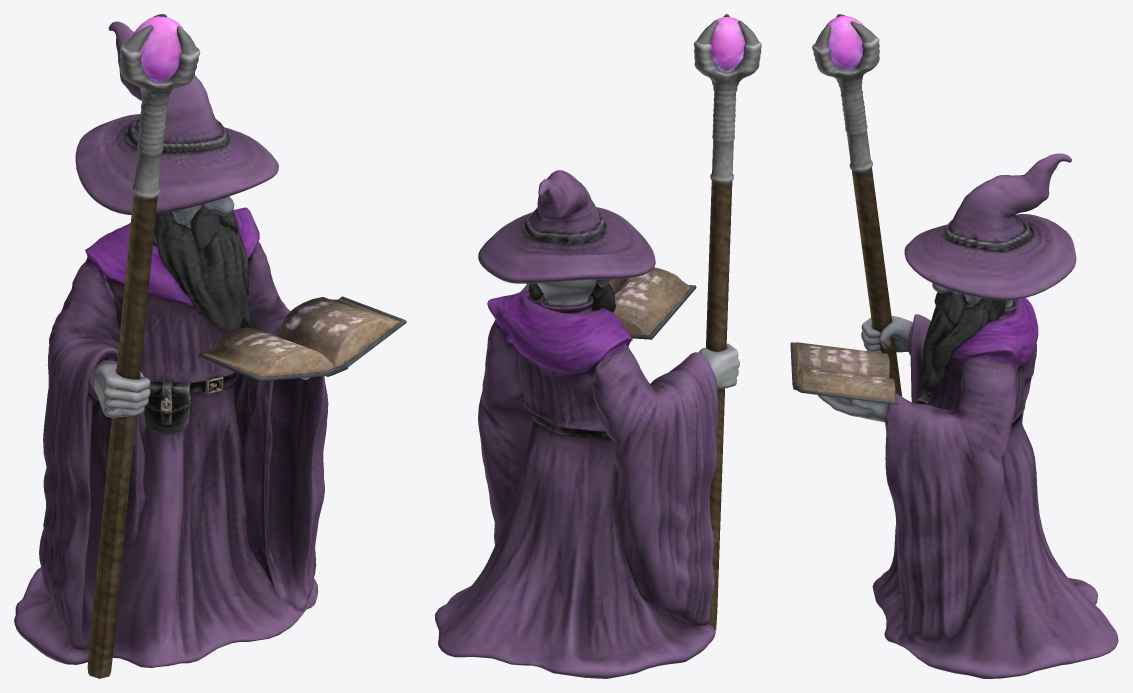
File: MZ4250 - Gnome Male Wizard 2_2.glb
3 views of the same model, side by side, from view 1: azimuth 30°, elevation 25°; view 2: azimuth 150°, elevation 25°; view 3: azimuth 270°, elevation 25° (orthographic). The views are drawn at different scales.
Parts seen in each view (by area): view 1: Mindflayer Infiltrator.002; view 2: Mindflayer Infiltrator.002; view 3: Mindflayer Infiltrator.002.
Part boxes in pixels (x1,y1,x2,y2): Mindflayer Infiltrator.002: (14,14,406,678); Mindflayer Infiltrator.002: (435,14,761,678); Mindflayer Infiltrator.002: (790,14,1118,678).
Size of the model in its own units: 29.22 by 68.16 by 35.34.
Materials: 1 (1 with a texture image).
